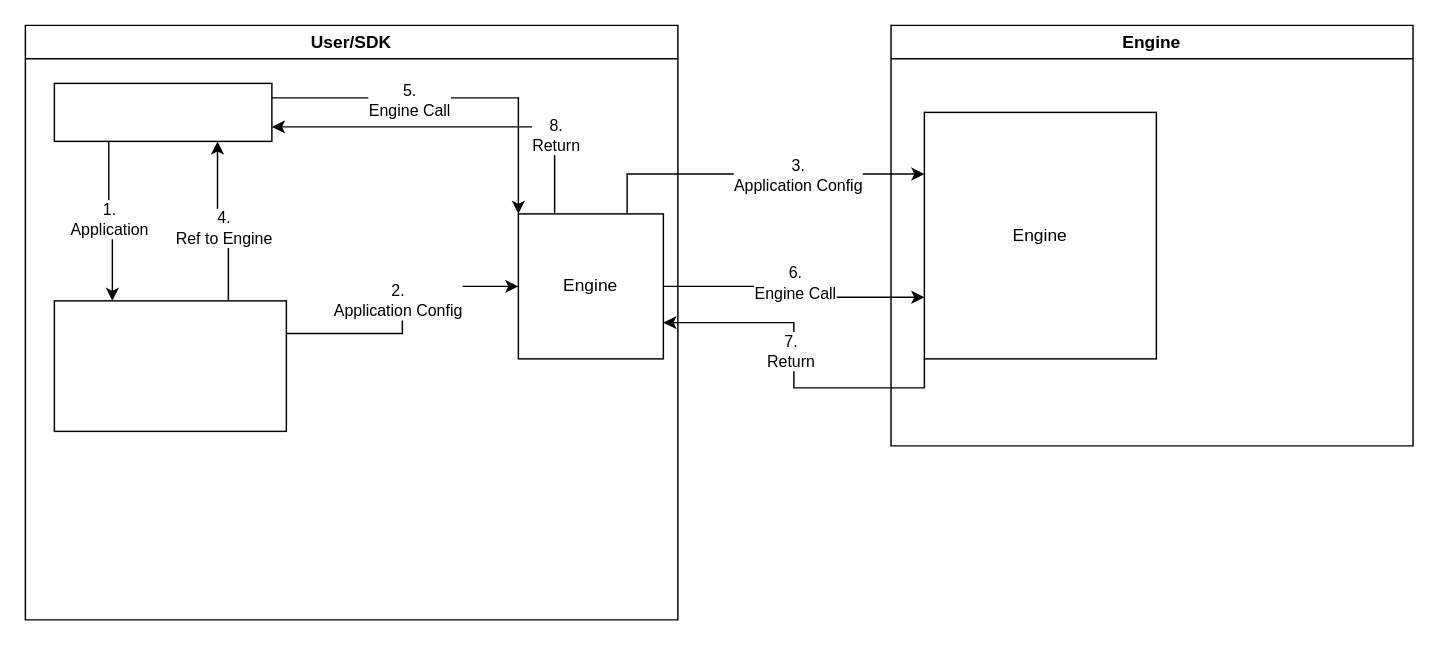
Image size: 1438x645. Some labels were removed from this diagram. Here are the shapes that lost their labels. From the top down, the centre of each, then its label:
the point at 162,111: Application
the point at 169,365: Hephaestus instance
